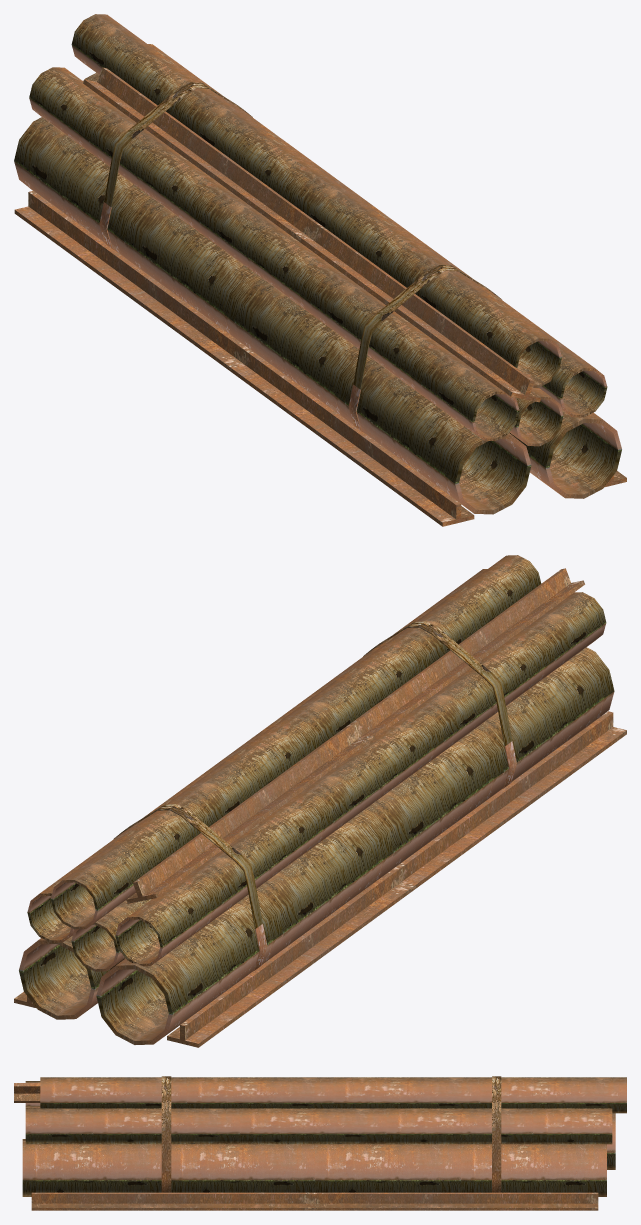
File: ind4_pipes_rusty_LOD0.fbx
3 views of the same model, one above another, from view 1: azimuth 30°, elevation 25°; view 2: azimuth 150°, elevation 25°; view 3: azimuth 270°, elevation 25° (orthographic). The views are drawn at different scales.
Visible parts, largest first — view 1: Mesh Object, Mesh Object_ncl1_1, Mesh Object_ncl1_2; view 2: Mesh Object, Mesh Object_ncl1_1, Mesh Object_ncl1_2; view 3: Mesh Object, Mesh Object_ncl1_1, Mesh Object_ncl1_2.
Boxes of the visible parts, box(x1,y1,x2,y2) form: Mesh Object: box(14, 14, 621, 514); Mesh Object_ncl1_1: box(14, 67, 626, 526); Mesh Object_ncl1_2: box(99, 82, 501, 435); Mesh Object: box(19, 555, 614, 1044); Mesh Object_ncl1_1: box(14, 568, 626, 1047); Mesh Object_ncl1_2: box(114, 621, 516, 973); Mesh Object: box(22, 1077, 626, 1196); Mesh Object_ncl1_1: box(14, 1083, 598, 1210); Mesh Object_ncl1_2: box(161, 1076, 501, 1192).
Bounding box in the file's own units: 4.82 × 4 × 20.98.
